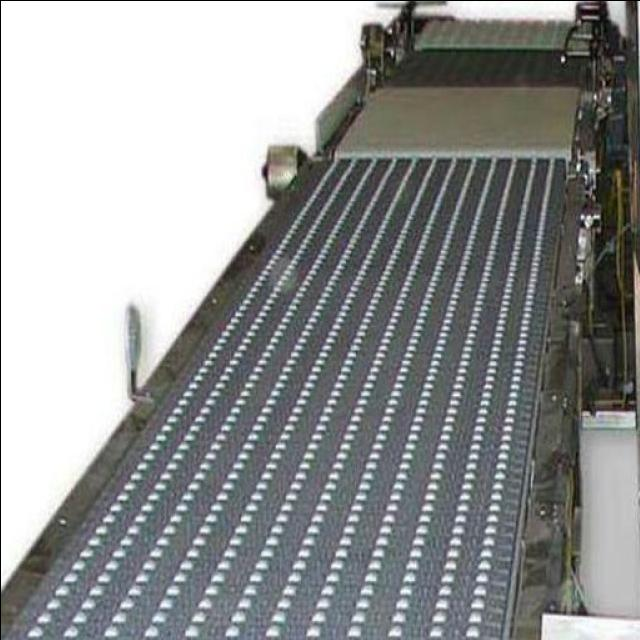conveyor: (0, 12, 591, 640)
